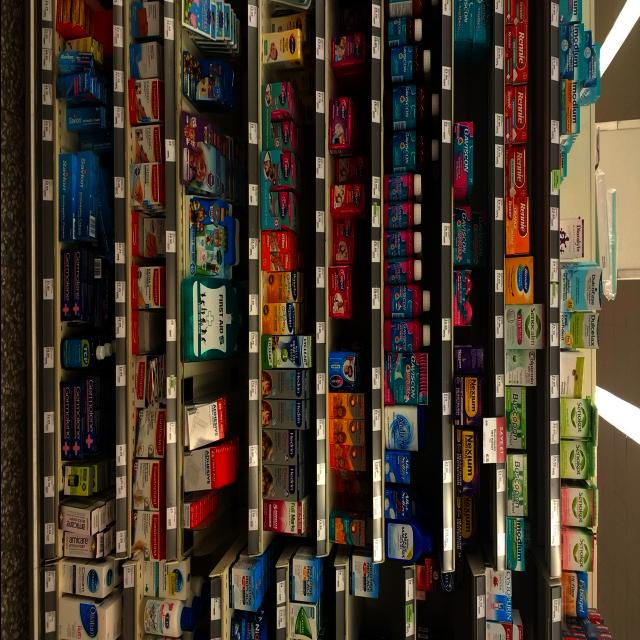empty_space: (452, 50, 488, 119), (345, 598, 379, 634), (192, 358, 225, 391), (330, 316, 354, 348), (560, 186, 584, 218), (326, 1, 342, 41), (55, 109, 69, 151), (328, 82, 348, 97)
